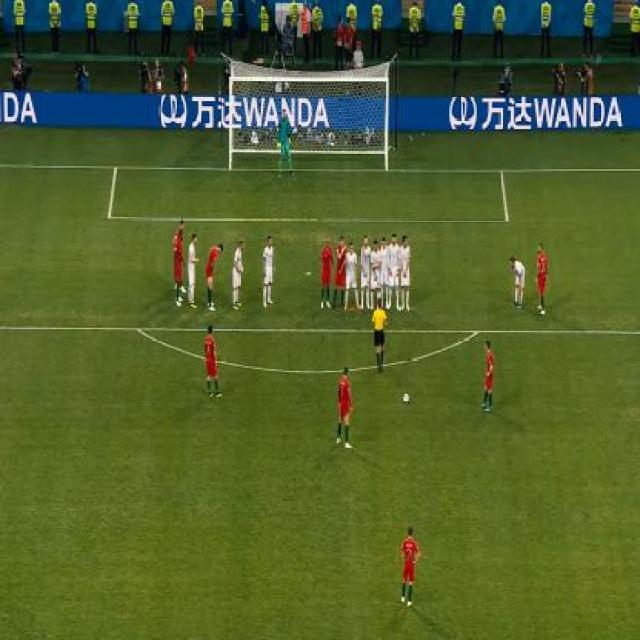ball: (403, 391, 412, 405)
player: (396, 524, 421, 609), (334, 363, 356, 452), (202, 320, 224, 399), (274, 108, 297, 177), (477, 339, 496, 412), (370, 300, 389, 373), (202, 242, 222, 311), (332, 235, 348, 311), (261, 233, 277, 309), (230, 238, 247, 309), (507, 253, 527, 309), (535, 241, 549, 315), (359, 236, 373, 310), (399, 235, 412, 314), (187, 232, 200, 309), (388, 233, 401, 310), (343, 241, 357, 312), (319, 240, 333, 309), (370, 239, 383, 308), (379, 235, 390, 308), (175, 231, 184, 307), (172, 219, 185, 242)
